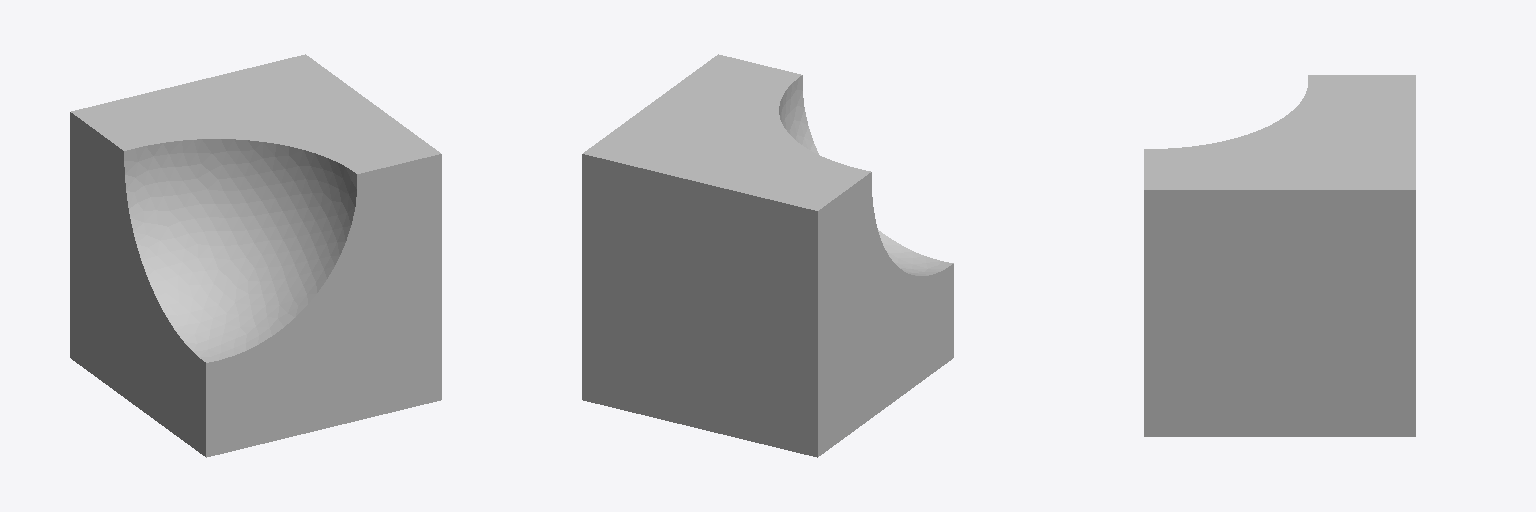
The model's file is cube_minus_sphere.obj.
3 views of the same model, side by side, from view 1: azimuth 30°, elevation 25°; view 2: azimuth 150°, elevation 25°; view 3: azimuth 270°, elevation 25° (orthographic).
Size of the model in its own units: 0.5498 by 0.5498 by 0.5498.